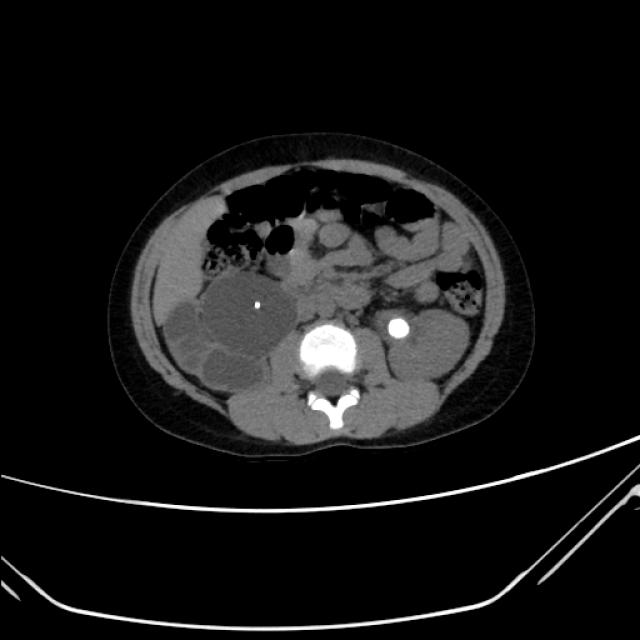kidney: (201, 270, 300, 360), (376, 302, 474, 389)
stone: (386, 312, 412, 340), (252, 298, 262, 311)
